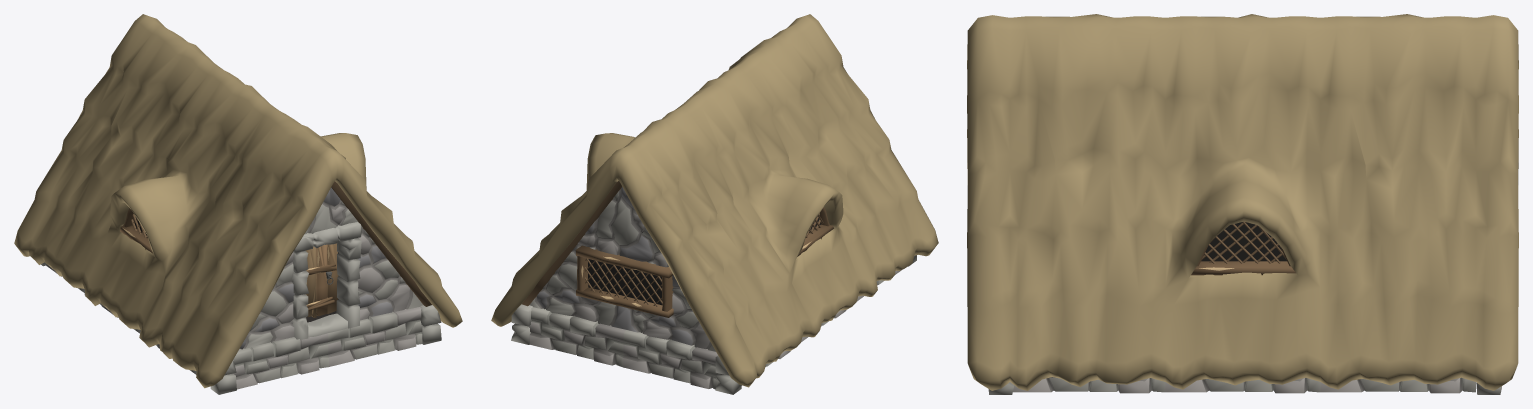
The model's file is rpgpp_ag_building_closed_10.fbx.
The picture shows the model from 3 angles, left to right: view 1: azimuth 30°, elevation 25°; view 2: azimuth 150°, elevation 25°; view 3: azimuth 270°, elevation 25°; orthographic projection. The views are drawn at different scales.
Visible parts, largest first — view 1: rpgpp_ag_building_closed_10; view 2: rpgpp_ag_building_closed_10; view 3: rpgpp_ag_building_closed_10.
Boxes of the visible parts, x1,y1,x2,y2 form: rpgpp_ag_building_closed_10: (14,14,462,394); rpgpp_ag_building_closed_10: (491,14,938,394); rpgpp_ag_building_closed_10: (967,14,1518,394).
Size of the model in its own units: 8.07 by 6.48 by 10.66.
